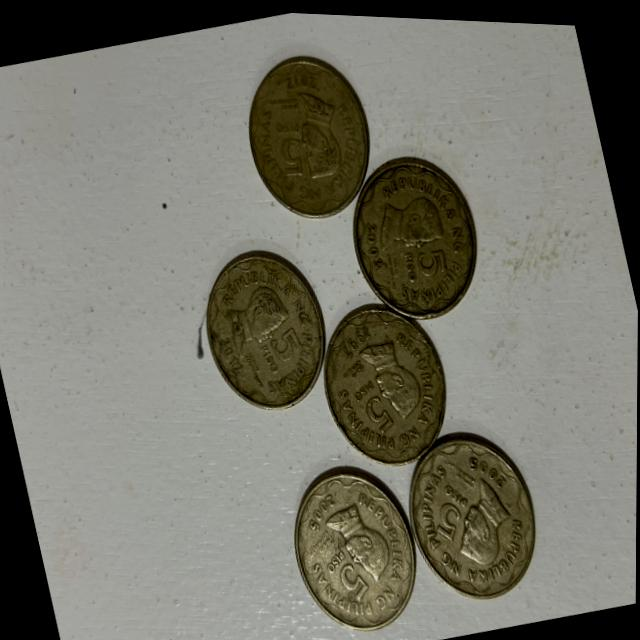5_Old_Front: (422, 462, 485, 551), (396, 227, 458, 301), (318, 539, 378, 608), (334, 365, 394, 433), (271, 114, 313, 181), (265, 316, 308, 369)
